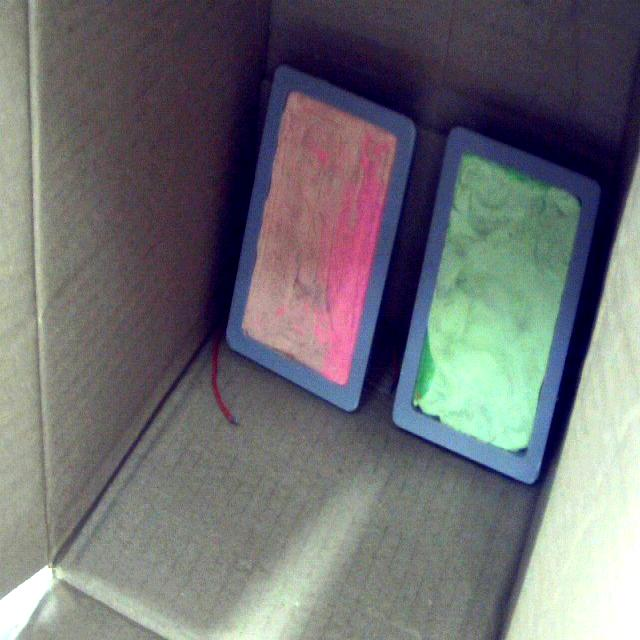block: (390, 130, 600, 486), (228, 61, 418, 414)
